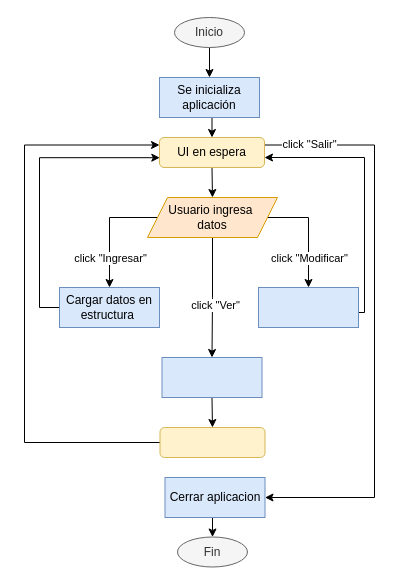
Image size: 400x585. Some labels were removed from this diagram. Here are the shapes that lost their labels. From the top down, the centre of each, then its label:
At pixel 308 307: "Modificar datos en estructura".
At pixel 211 377: "Extraer datos de estructura".
At pixel 212 442: "Mostrar datos".
